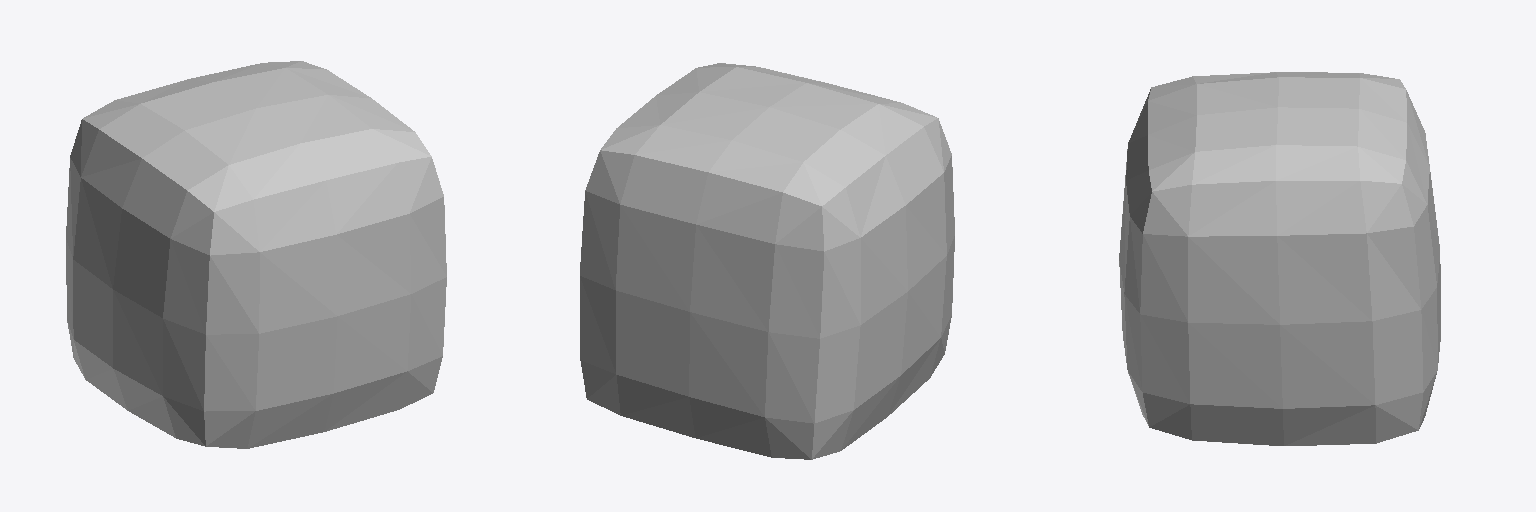
The model's file is smoothwobbly mino.obj.
3 renders of one model, left to right at view 1: azimuth 30°, elevation 25°; view 2: azimuth 150°, elevation 25°; view 3: azimuth 270°, elevation 25°, orthographic.
Parts seen in each view (by area): view 1: Cube; view 2: Cube; view 3: Cube.
Boxes of the visible parts, x1=… form: Cube: x1=66, y1=61, x2=446, y2=448; Cube: x1=580, y1=63, x2=954, y2=459; Cube: x1=1119, y1=72, x2=1440, y2=445.
Size of the model in its own units: 0.9687 by 0.9702 by 0.9538.